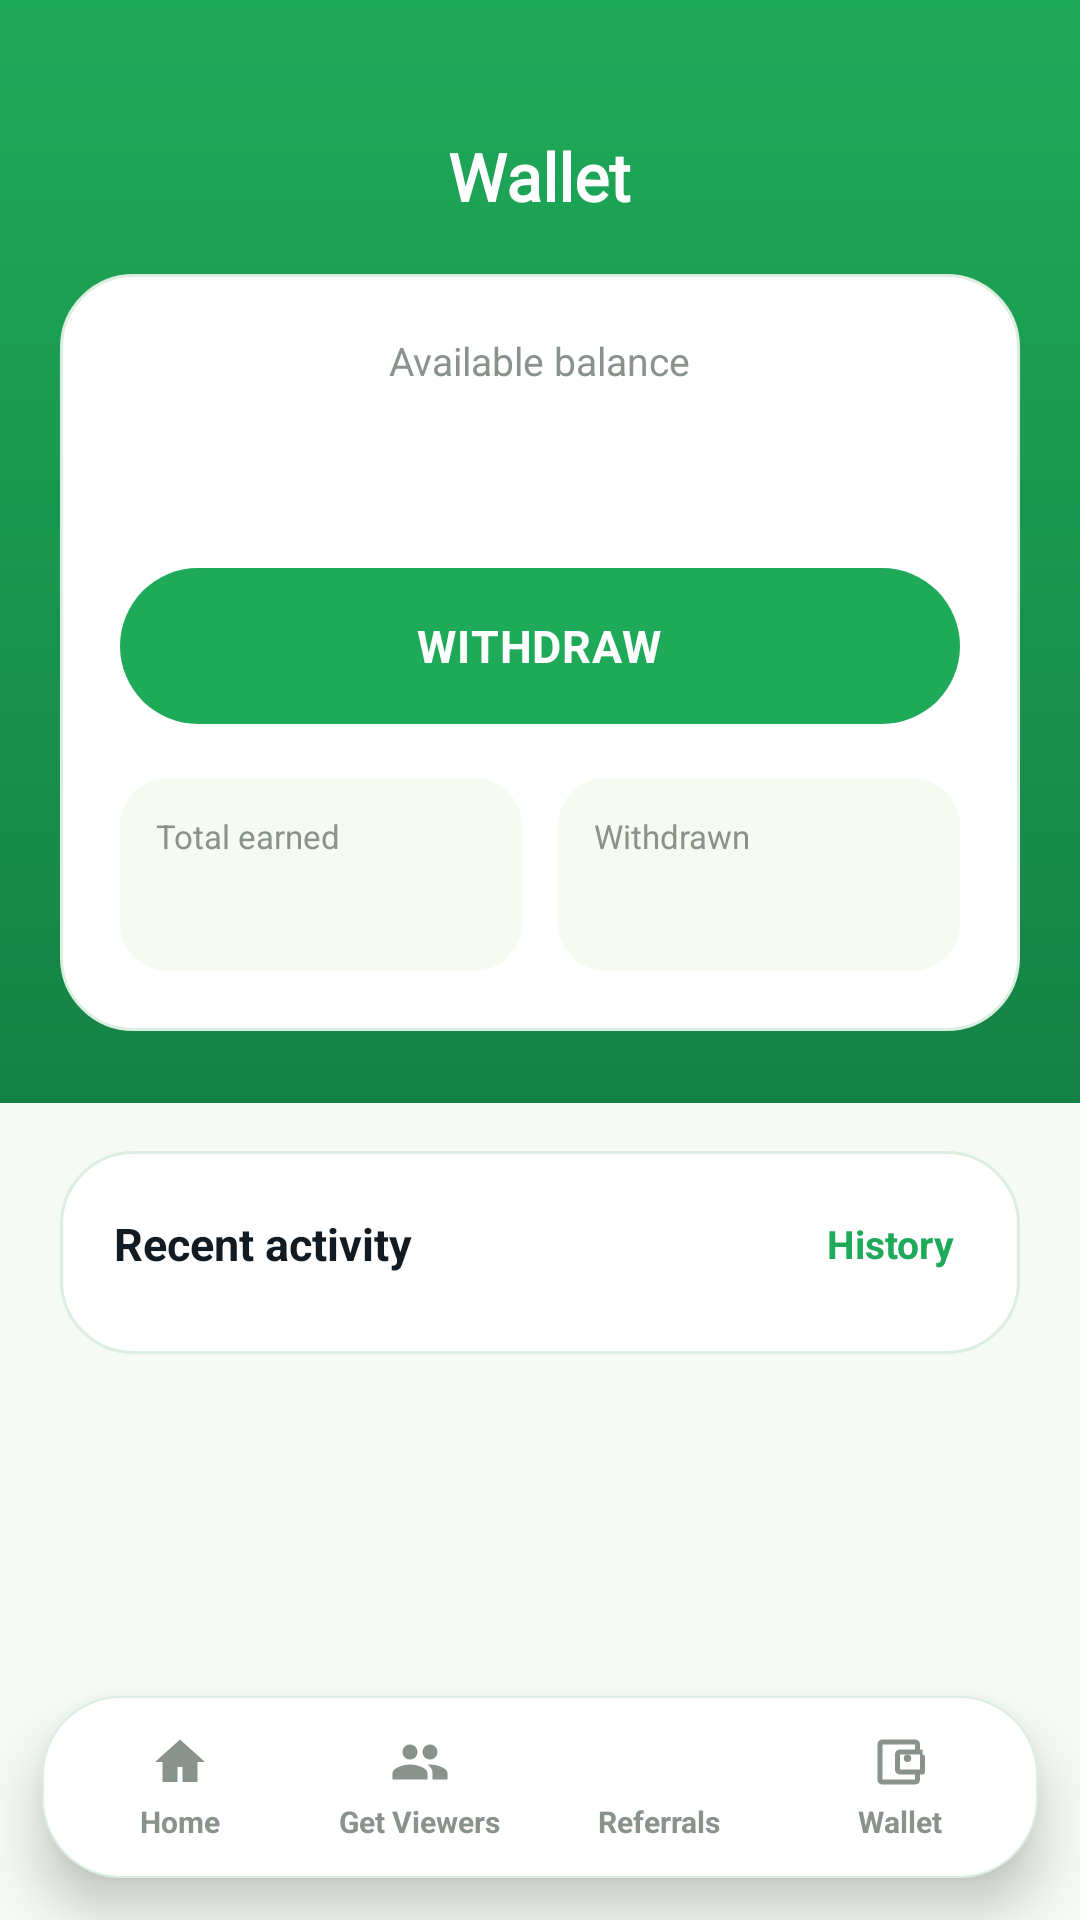

Screen size 1080*1920. Icon name, then its center in pixels as point (x, y):
contacts: point (420, 1762)
